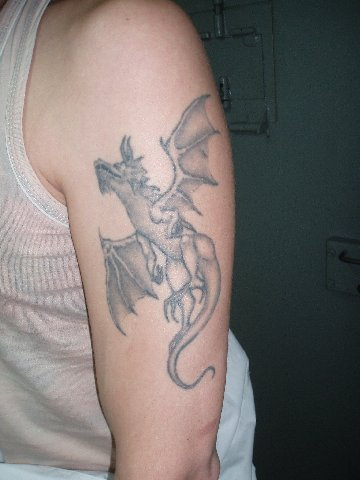tatu6_drakon: (60, 59, 271, 422)
